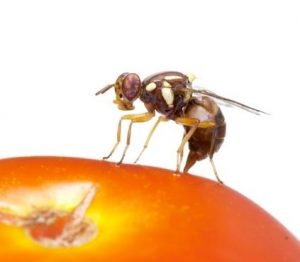Fruit fly: (85, 53, 250, 178)
